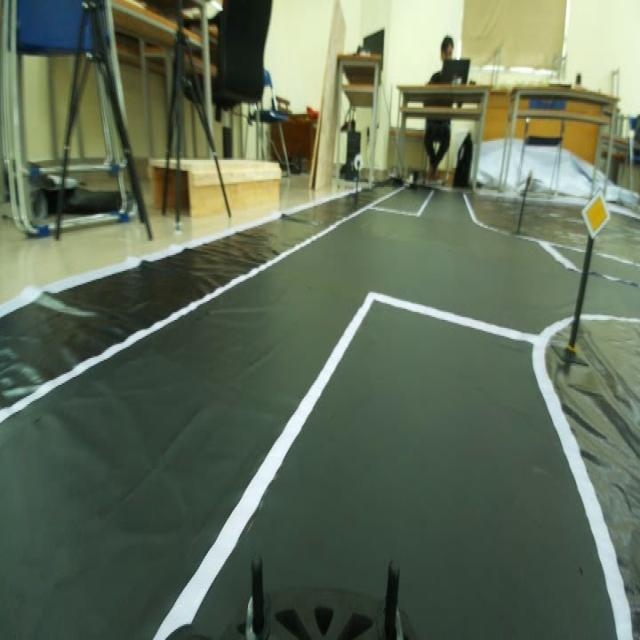priority: (580, 185, 615, 251)
